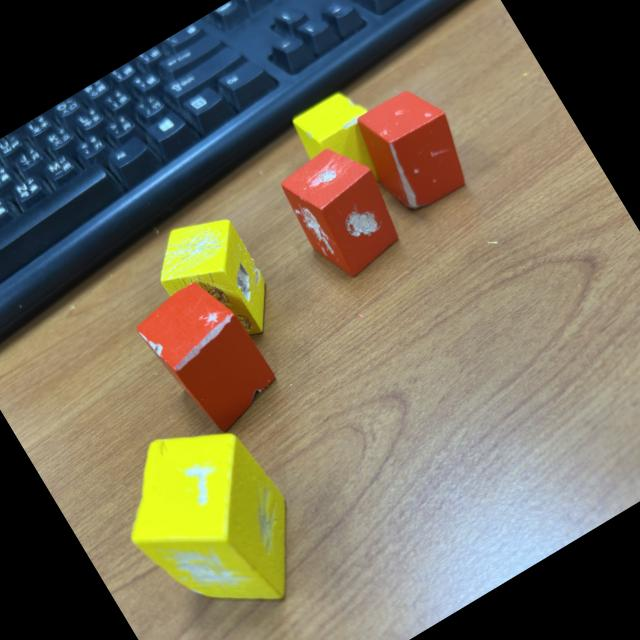broken: (92, 396, 331, 640), (128, 268, 288, 444), (139, 200, 291, 366), (272, 130, 418, 290), (344, 77, 482, 222), (286, 80, 404, 206)
